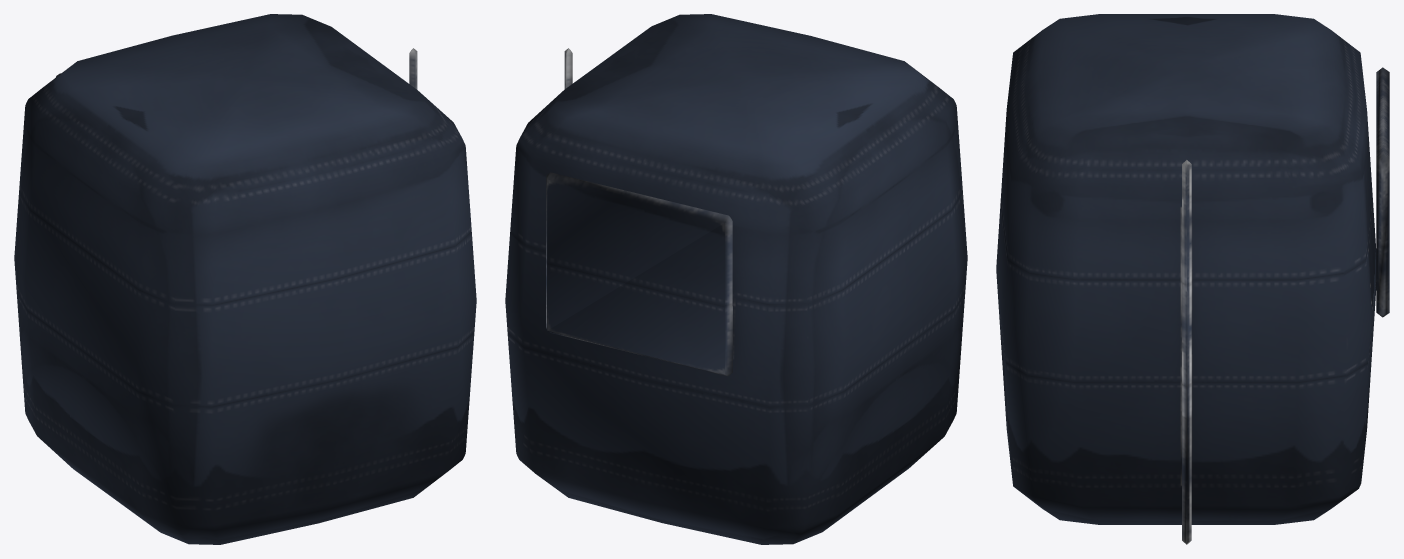
File: MatonImp_PantalonArribaIzq.fbx
The picture shows the model from 3 angles, left to right: view 1: azimuth 30°, elevation 25°; view 2: azimuth 150°, elevation 25°; view 3: azimuth 270°, elevation 25°; orthographic projection.
Visible parts, largest first — view 1: MatonImp_PantalonArribaIzq; view 2: MatonImp_PantalonArribaIzq; view 3: MatonImp_PantalonArribaIzq.
Part boxes in pixels (x1=…): MatonImp_PantalonArribaIzq: x1=14, y1=14, x2=476, y2=544; MatonImp_PantalonArribaIzq: x1=505, y1=14, x2=967, y2=544; MatonImp_PantalonArribaIzq: x1=996, y1=14, x2=1389, y2=544.
Bounding box in the file's own units: 1.26 × 1.43 × 1.26.
